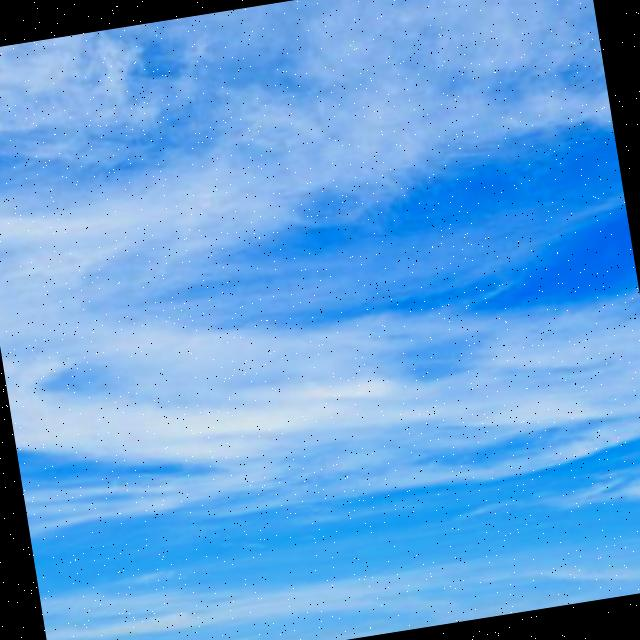Ci: (1, 1, 640, 622)
